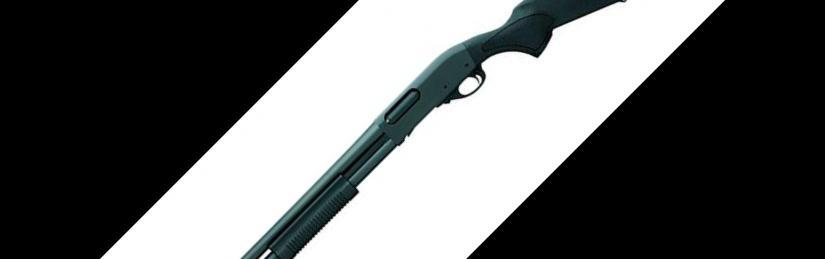larga: (239, 0, 628, 259)
